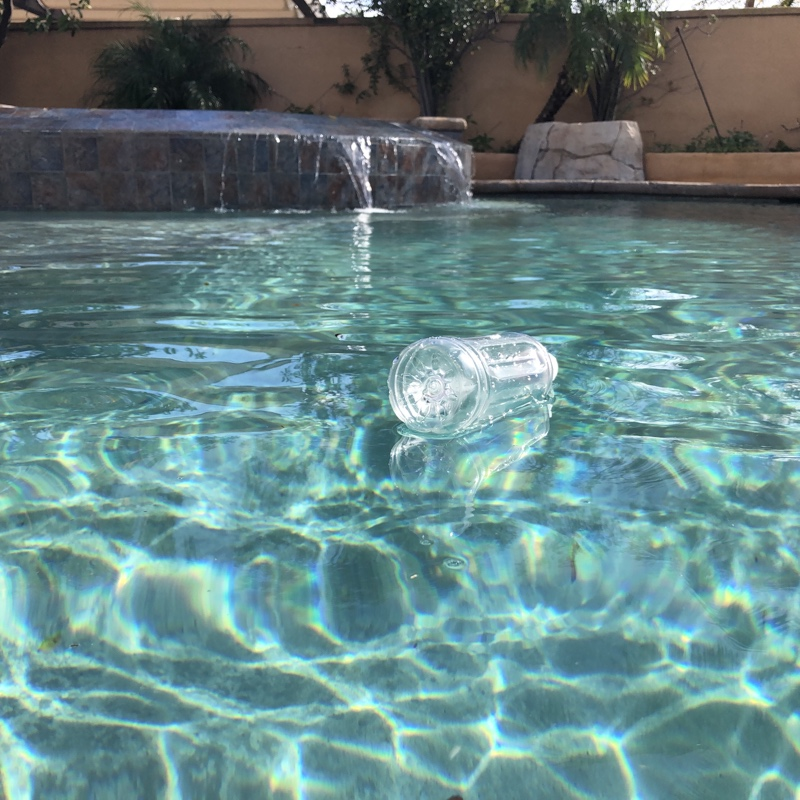Plastic Bottle: (383, 320, 561, 447)
